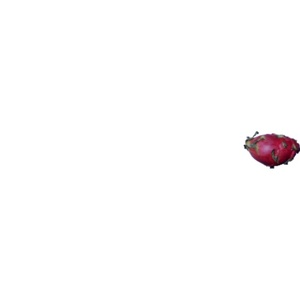pitaia: (245, 133, 300, 169)
